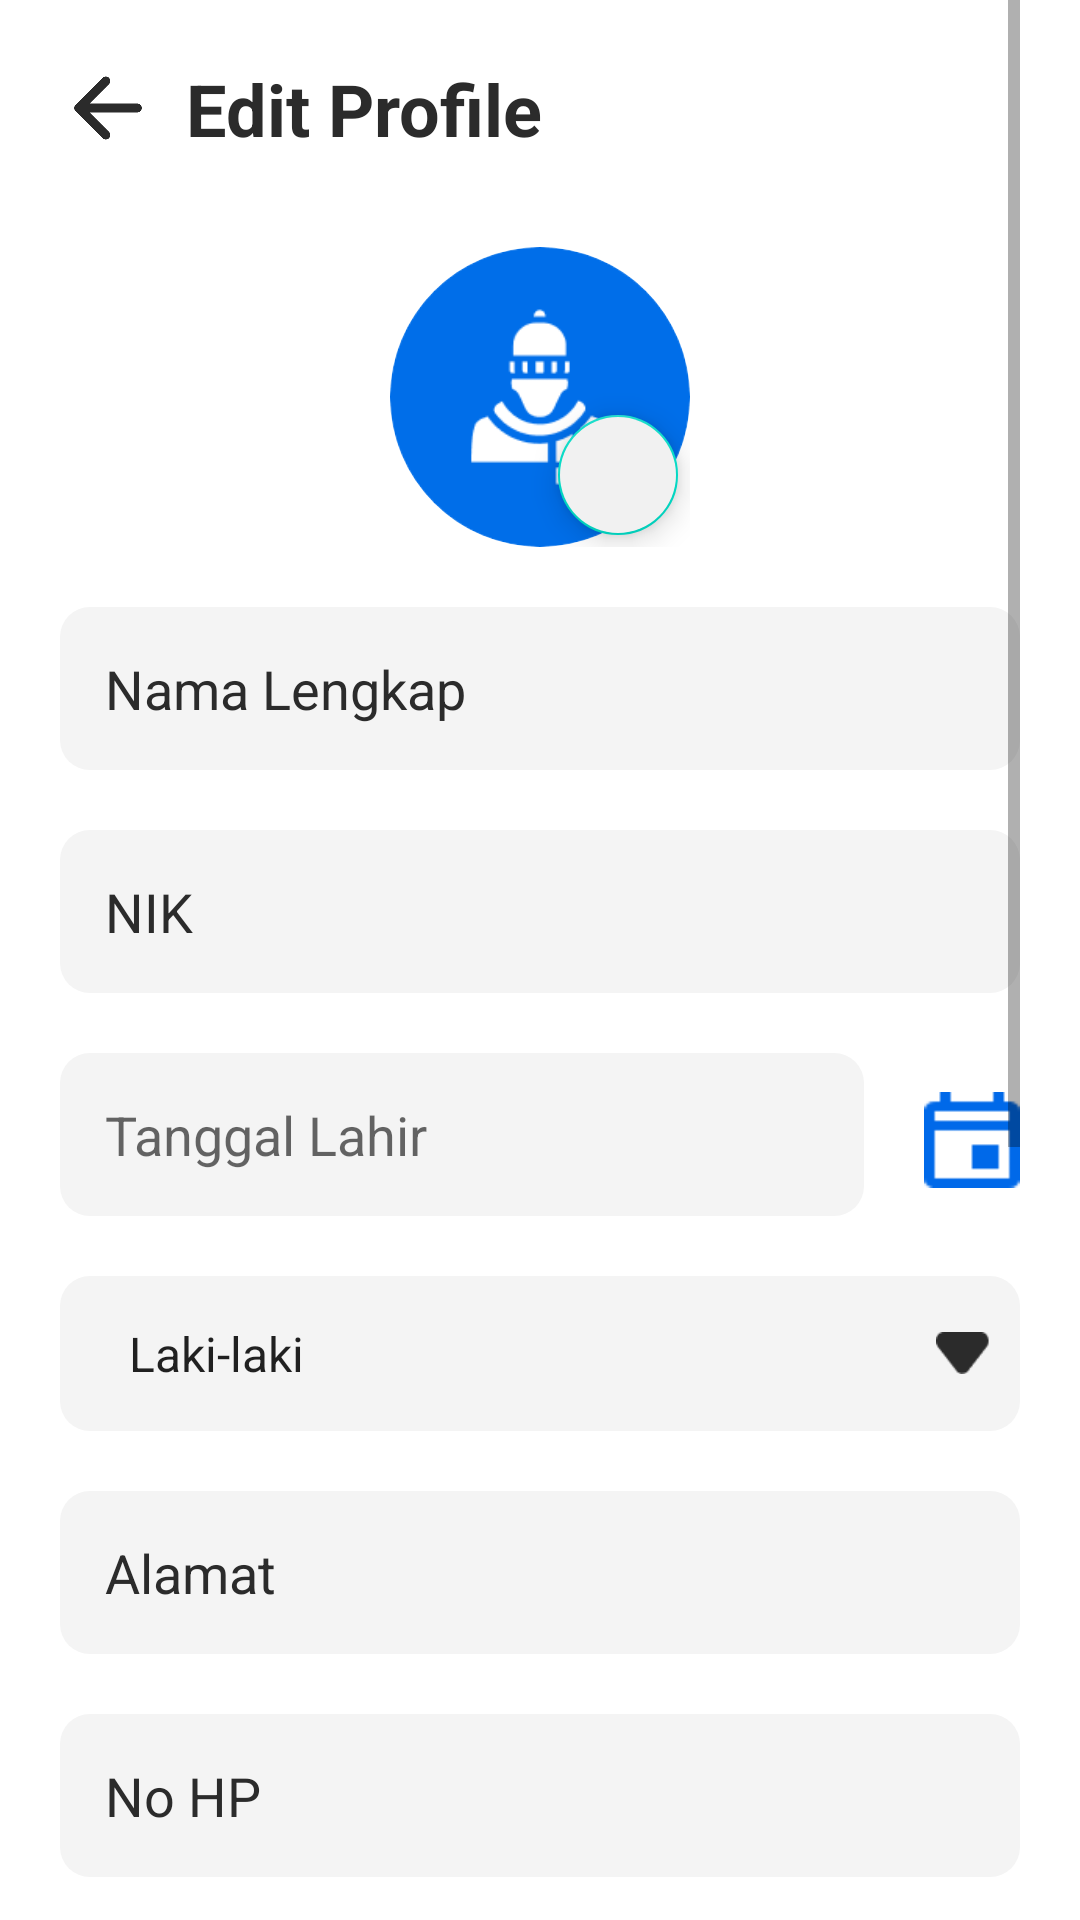

Icons on this 1080px×1920px Android screen, each with the point to tap as (x=x, y=y):
avatarhome: (x=540, y=397)
back arrow: (x=108, y=108)
calendar: (x=972, y=1140)
